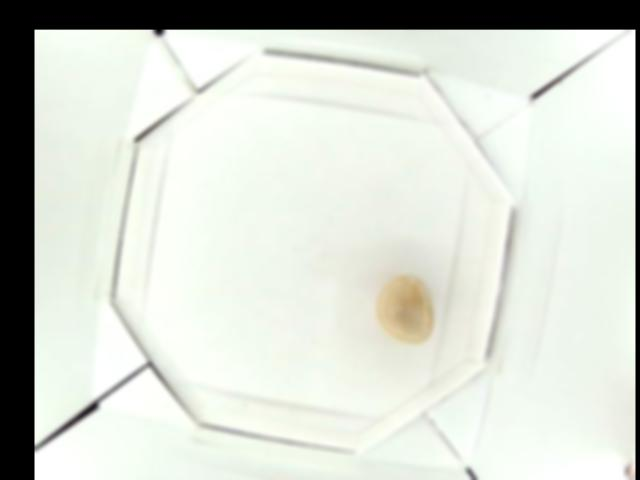Pebble: (377, 274, 433, 347)
